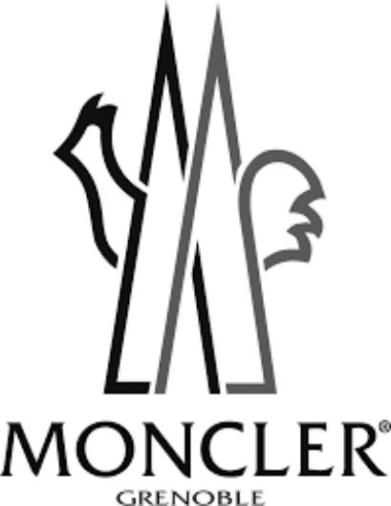MONCLER: (51, 1, 326, 396), (1, 420, 391, 483)
